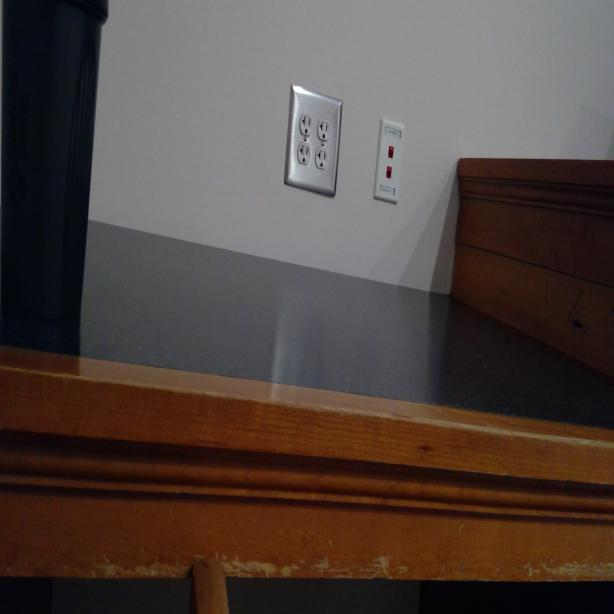typeb: (298, 110, 312, 137), (298, 140, 312, 164), (314, 146, 328, 170), (317, 116, 330, 140)
